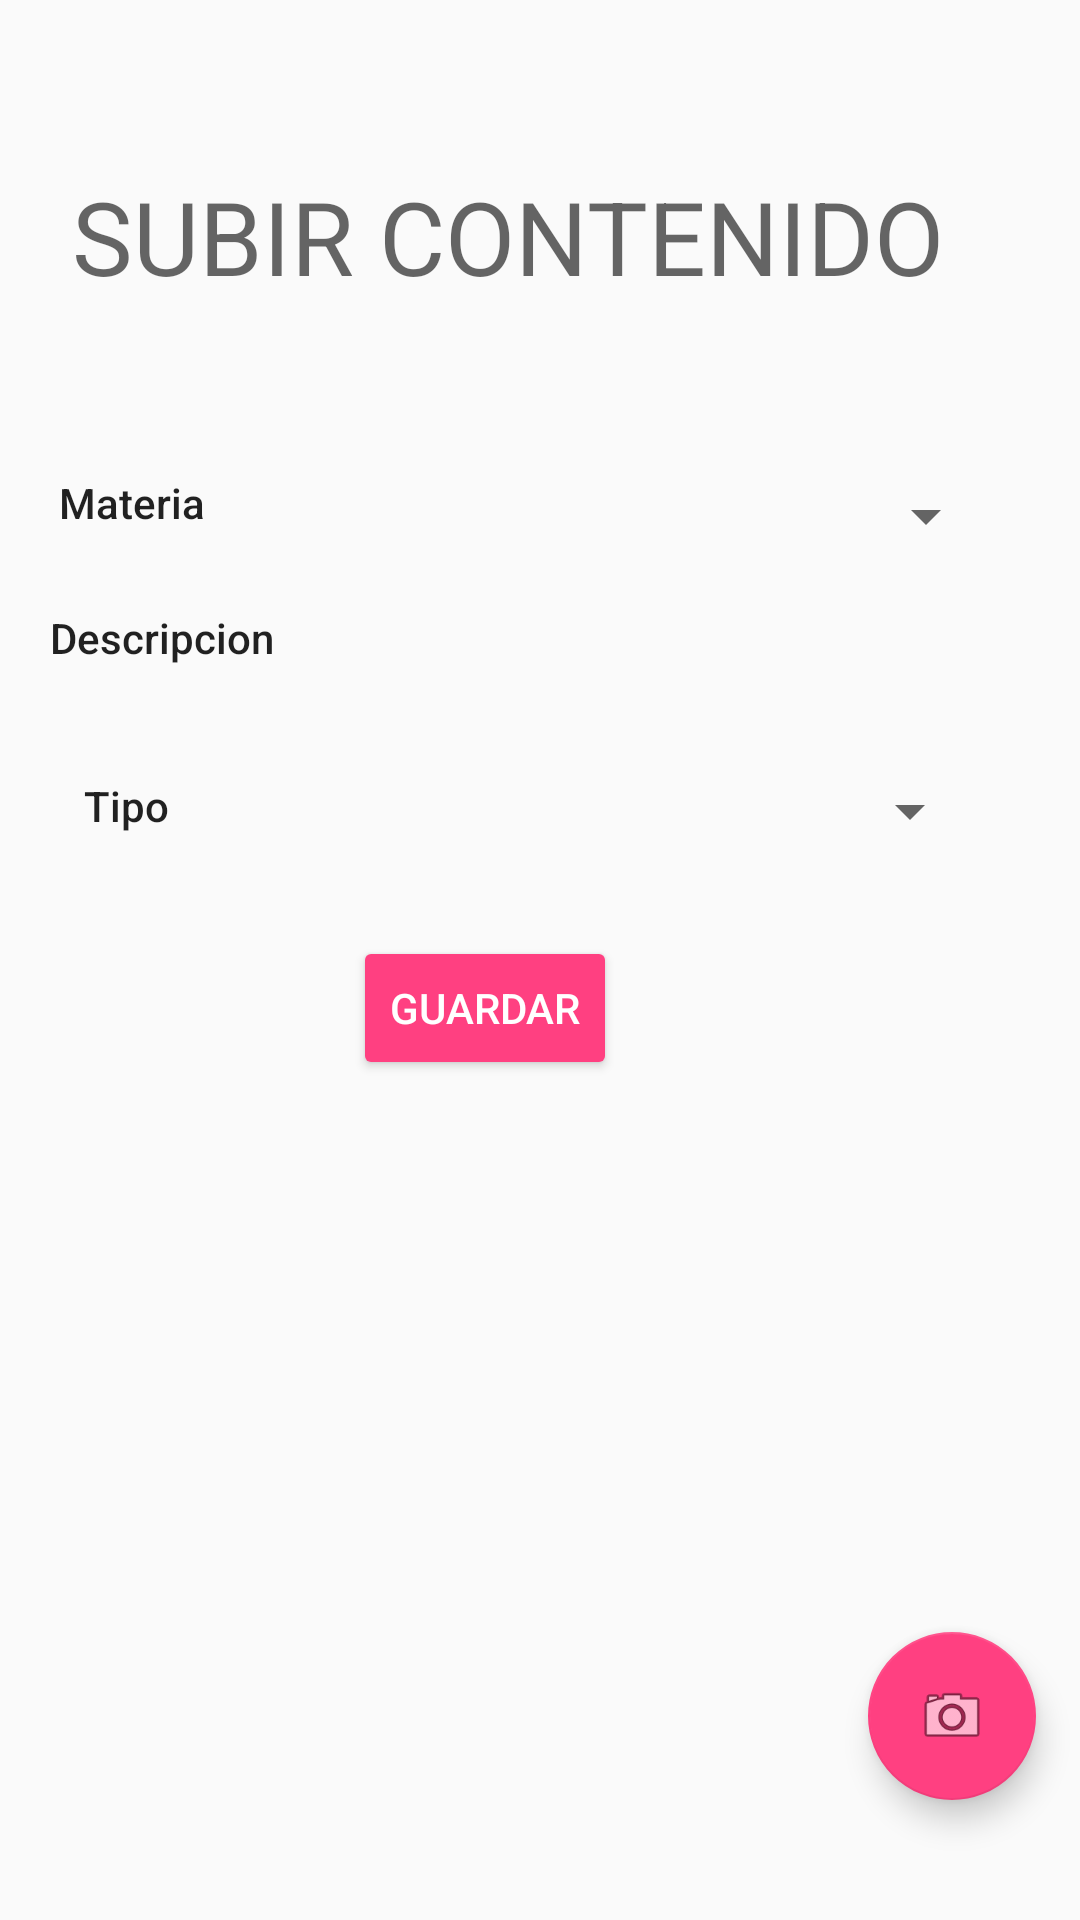

Icons on this 1080w x 1920h Android screen, each with the point to tap as point (x, y):
camera: point (952, 1716)
